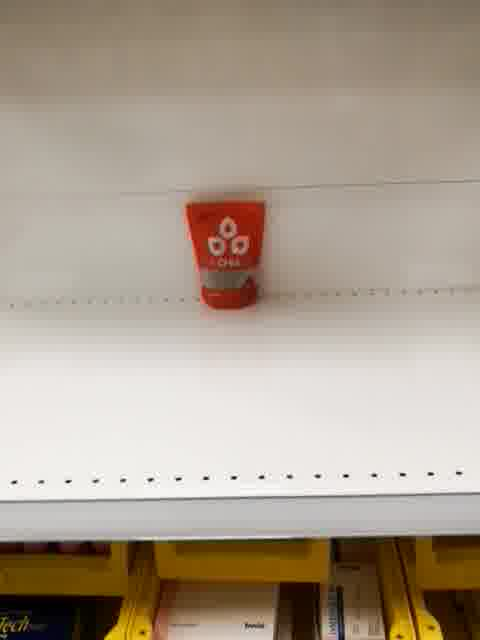whitechia: (184, 198, 273, 311)
